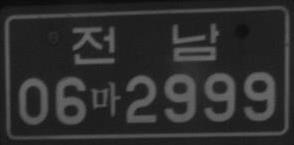0: (17, 77, 50, 126)
2: (125, 74, 157, 124)
6: (55, 76, 87, 125)
9: (162, 72, 197, 123), (202, 72, 237, 123), (243, 70, 276, 122)
마: (90, 80, 121, 117)
전남_D: (71, 21, 219, 64)
